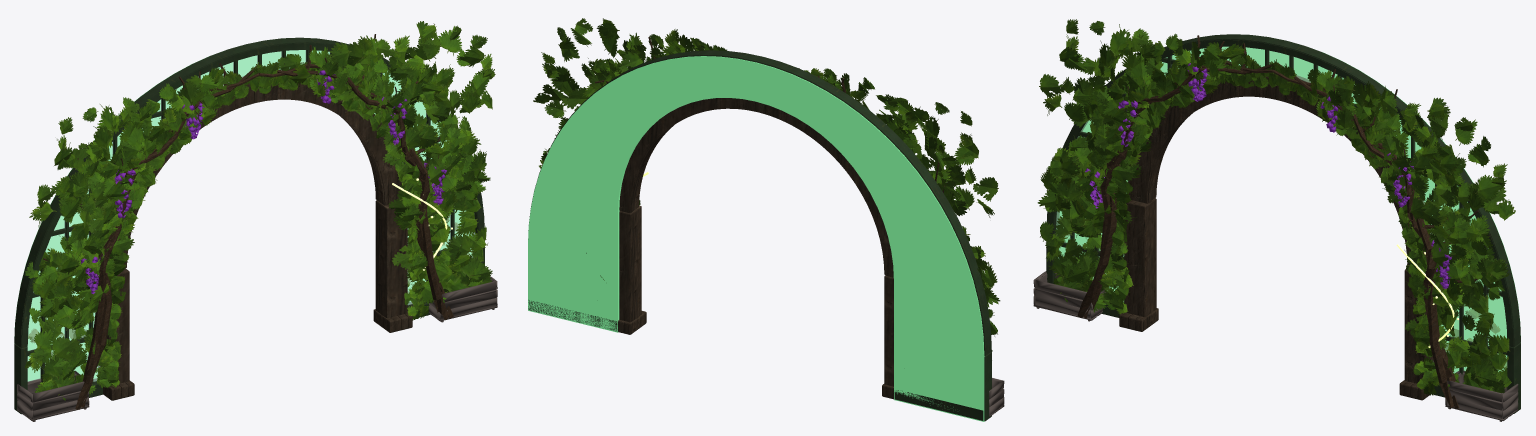
File: fachada_11.glb
The picture shows the model from 3 angles, left to right: view 1: azimuth 30°, elevation 25°; view 2: azimuth 150°, elevation 25°; view 3: azimuth 330°, elevation 25°; orthographic projection. The views are drawn at different scales.
Visible parts, largest first — view 1: F11; view 2: F11; view 3: F11.
Part boxes in pixels (x1,y1,x2,y2): F11: (14, 21, 497, 421); F11: (528, 18, 1004, 421); F11: (1033, 19, 1520, 421).
Size of the model in its own units: 12.16 by 7.59 by 1.09.
9 materials, 5 textured.
